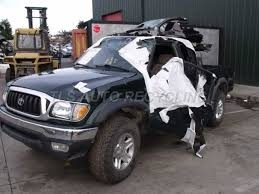Smashed: (140, 37, 208, 114)
